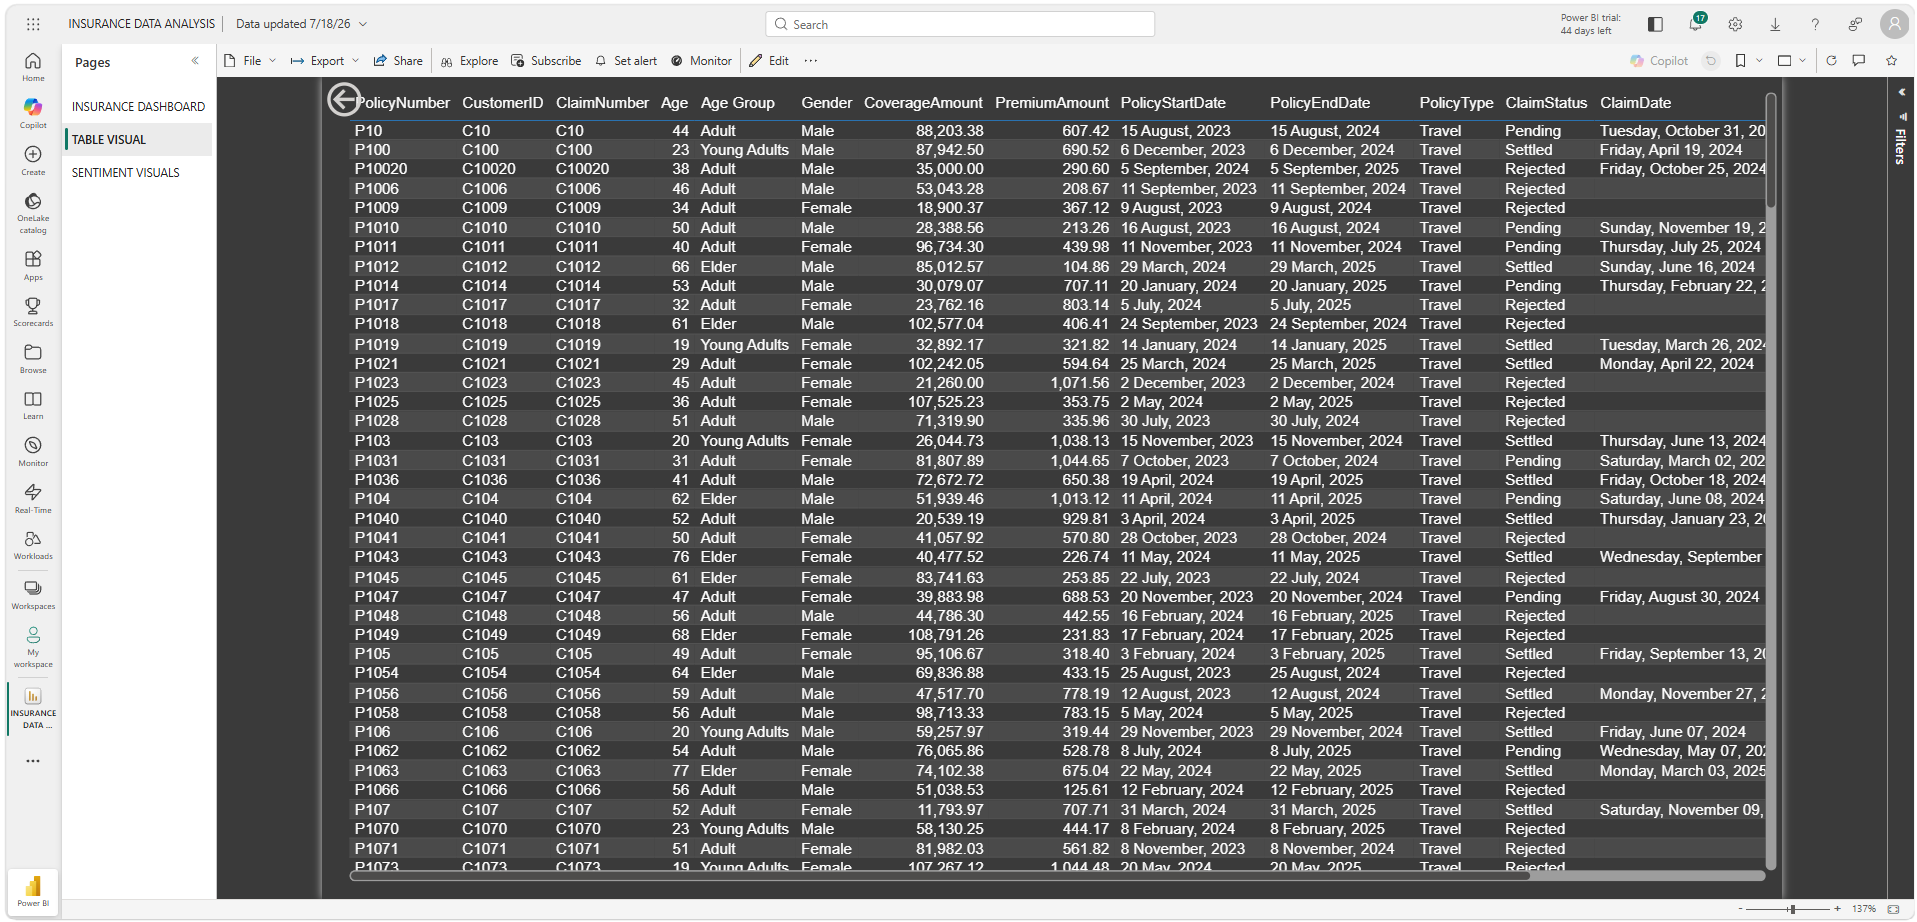

What the dashboard file says about the page in this screenshot:
{"tool":"powerbi","page":{"name":"TABLE VISUAL","canvas":[1280,720],"ordinal":1},"visuals":[{"type":"tableEx","fields":{"Values":["InsuranceData.PolicyNumber","InsuranceData.CustomerID","InsuranceData.ClaimNumber","InsuranceData.Age","InsuranceData.Age Group","InsuranceData.Gender","InsuranceData.CoverageAmount","InsuranceData.PremiumAmount","InsuranceData.PolicyStartDate","InsuranceData.PolicyEndDate","InsuranceData.PolicyType","InsuranceData.ClaimStatus"]},"box":[18.4,8.6,1261.4,700.6],"z":0},{"type":"actionButton","box":[0,0,100,40],"z":1000}]}

Visuals, with their boxes on the page's 1280x720 design canvas (x1, y1, x2, y2). These are canvas units, not pixel positions in the 1917x922 screenshot, which may show the page scaled, cropped or inside an application window:
tableEx - InsuranceData.PolicyNumber x InsuranceData.CustomerID: crop(18, 9, 1280, 709)
actionButton: crop(0, 0, 100, 40)
